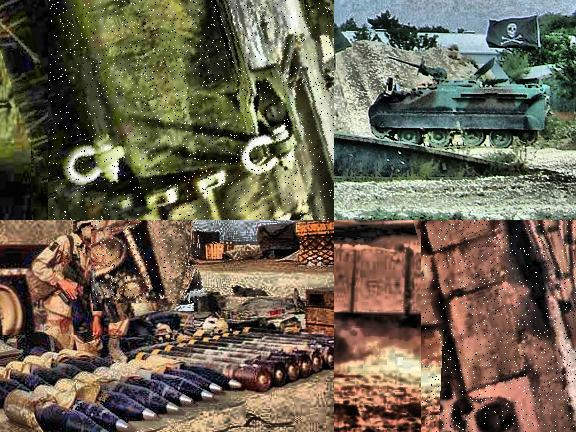tanks: (53, 1, 335, 221), (423, 221, 576, 432), (369, 61, 549, 149), (92, 221, 200, 303), (1, 221, 73, 336)
